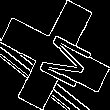M_NW: (22, 23, 88, 87)
